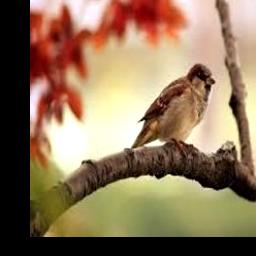Sparrow: (130, 63, 216, 149)
